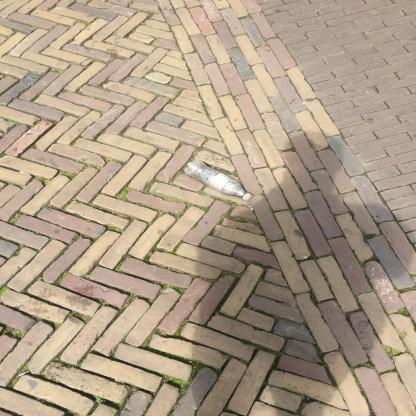plastik: (185, 160, 255, 202)
